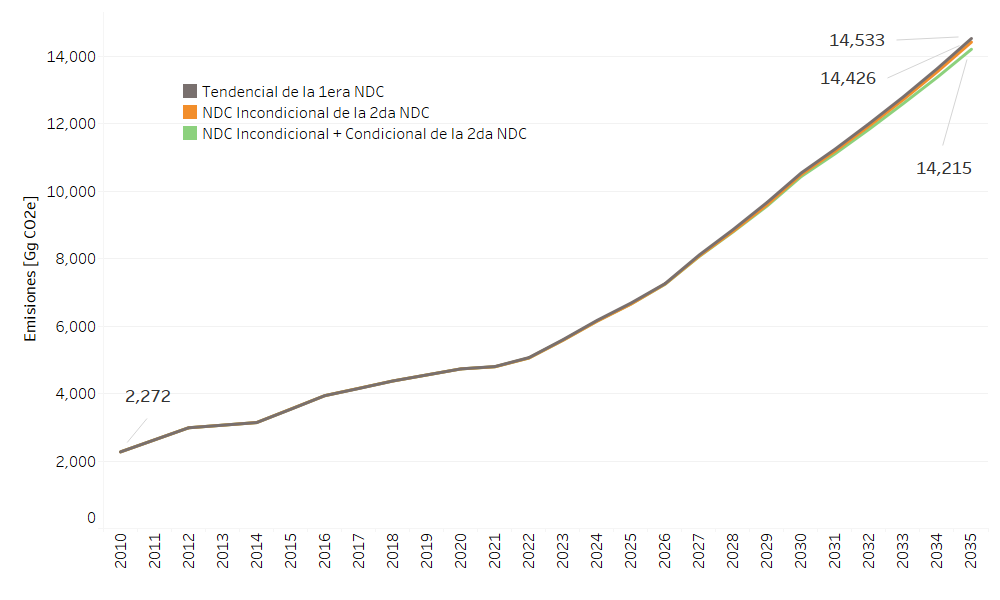

Layout of this report page (visuals, bound fields, positions):
{"tool":"tableau","page":{"name":"EmiWasteSec","canvas":[1200,600],"ordinal":6},"visuals":[{"type":"worksheet","title":"EmissionsWaste","mark":"Automatic","rows":["AnnualTechnologyEmission"],"cols":["Strategy","Year"],"box":[8,8,1184,498]},{"type":"legend","title":"EmissionsWaste","param":"[federated.0xtmxzp1oxh0md1clkxmi1cf43v1].[Technology (IPPU&Waste)]","box":[8,506,1184,86]}]}

Visuals, with their boxes on the page's 1200x600 design canvas (x1, y1, x2, y2). These are canvas units, not pixel positions in the 1000x600 screenshot, which may show the page scaled, cropped or inside an application window:
"EmissionsWaste" worksheet: <bbox>8, 8, 1192, 506</bbox>
"EmissionsWaste" legend: <bbox>8, 506, 1192, 592</bbox>
